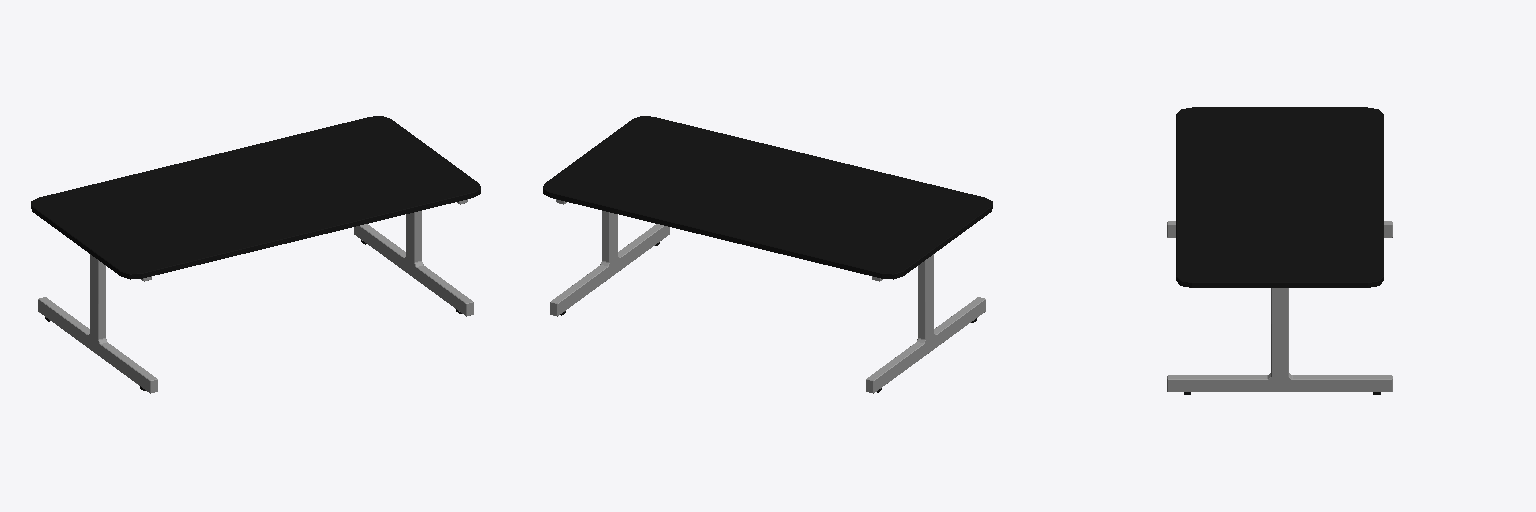
The model's file is table.obj.
3 views of the same model, side by side, from view 1: azimuth 30°, elevation 25°; view 2: azimuth 150°, elevation 25°; view 3: azimuth 270°, elevation 25° (orthographic).
Parts seen in each view (by area): view 1: Cube.017_Cube.026; view 2: Cube.017_Cube.026; view 3: Cube.017_Cube.026.
Part boxes in pixels (left/top/right/bottom): Cube.017_Cube.026: left=31, top=116, right=480, bottom=393; Cube.017_Cube.026: left=543, top=116, right=992, bottom=393; Cube.017_Cube.026: left=1167, top=107, right=1392, bottom=394.
Bounding box in the file's own units: 2 × 0.6492 × 1.09.